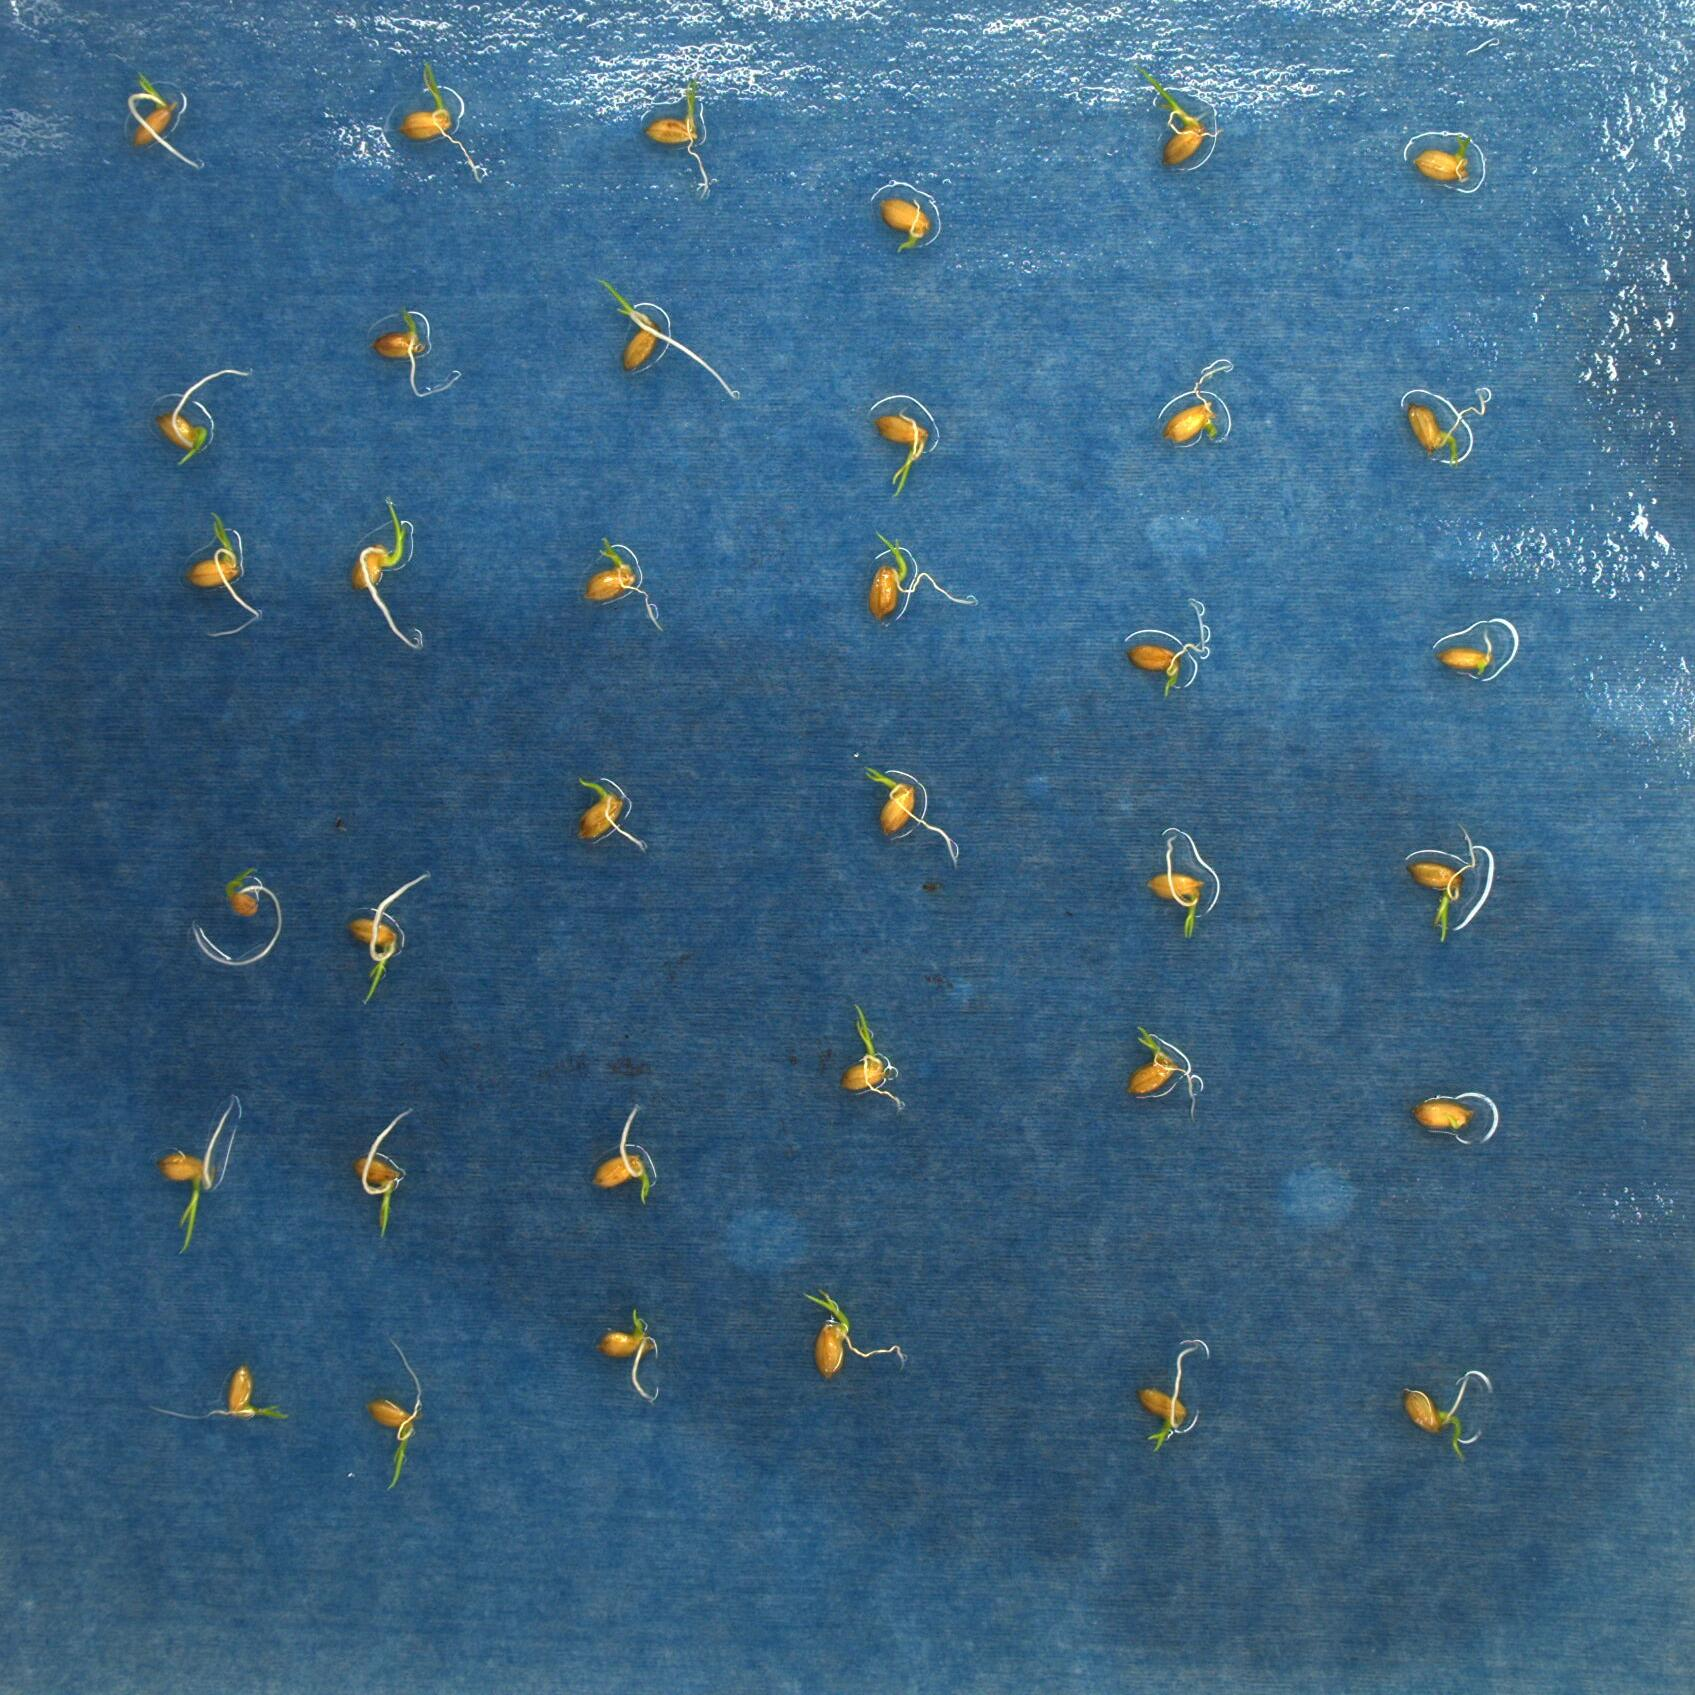not sprout: (1121, 594, 1217, 698), (1156, 359, 1245, 455), (594, 1302, 661, 1409), (1430, 605, 1518, 686), (591, 1097, 657, 1206), (868, 174, 942, 262), (1406, 1085, 1501, 1153), (1402, 129, 1490, 199)
sprout: (581, 270, 736, 397), (158, 1091, 244, 1256), (349, 497, 433, 655), (861, 526, 986, 632), (1122, 57, 1223, 182), (390, 59, 487, 183), (858, 757, 965, 866), (1402, 821, 1492, 945), (359, 1333, 428, 1492), (798, 1284, 906, 1383), (348, 869, 427, 1001), (151, 363, 248, 469), (638, 79, 719, 203), (1395, 379, 1496, 478), (116, 68, 206, 179), (141, 1361, 290, 1426), (191, 865, 286, 967), (1399, 1366, 1493, 1465), (191, 511, 262, 641), (1146, 823, 1222, 941), (369, 300, 461, 397), (837, 1003, 910, 1125), (1119, 1023, 1209, 1122), (577, 532, 666, 632), (865, 390, 941, 501), (1139, 1338, 1214, 1451), (570, 771, 653, 863), (355, 1107, 410, 1243)
